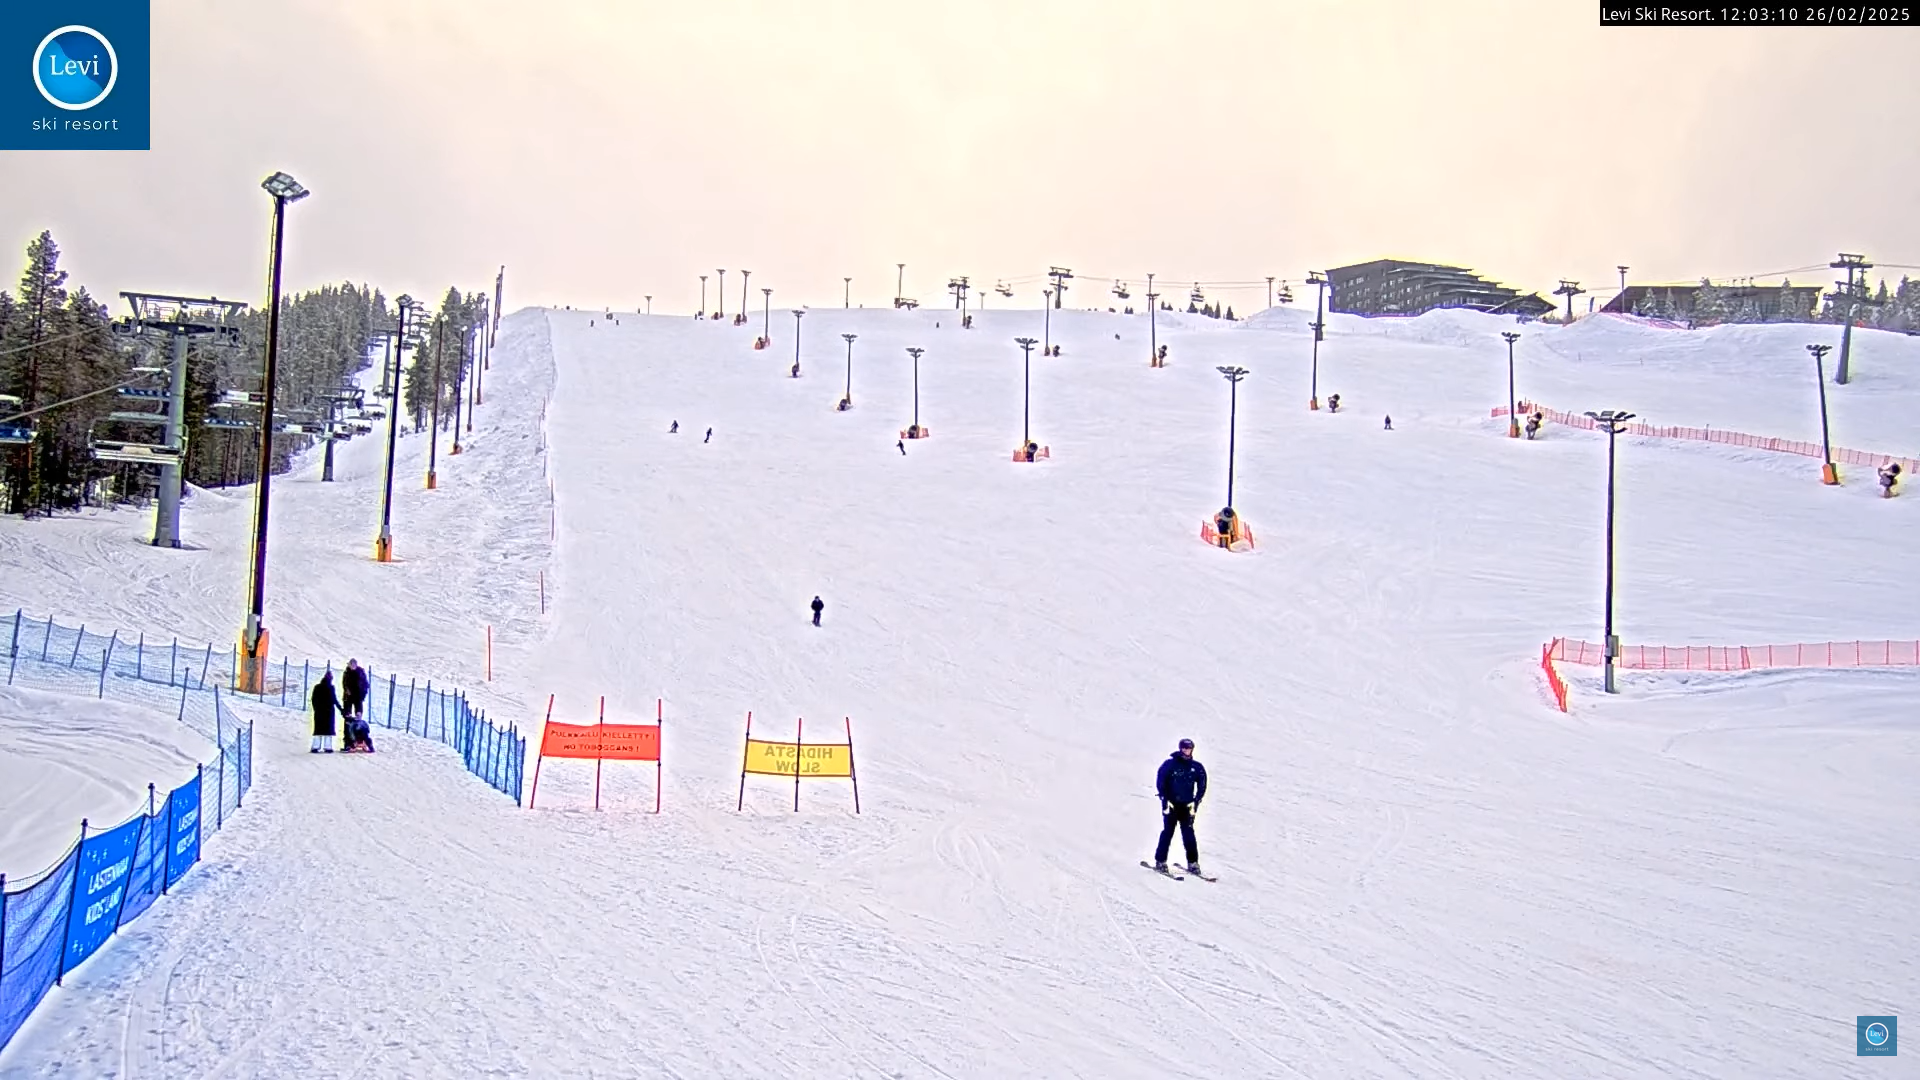skier: (1138, 732, 1222, 893)
